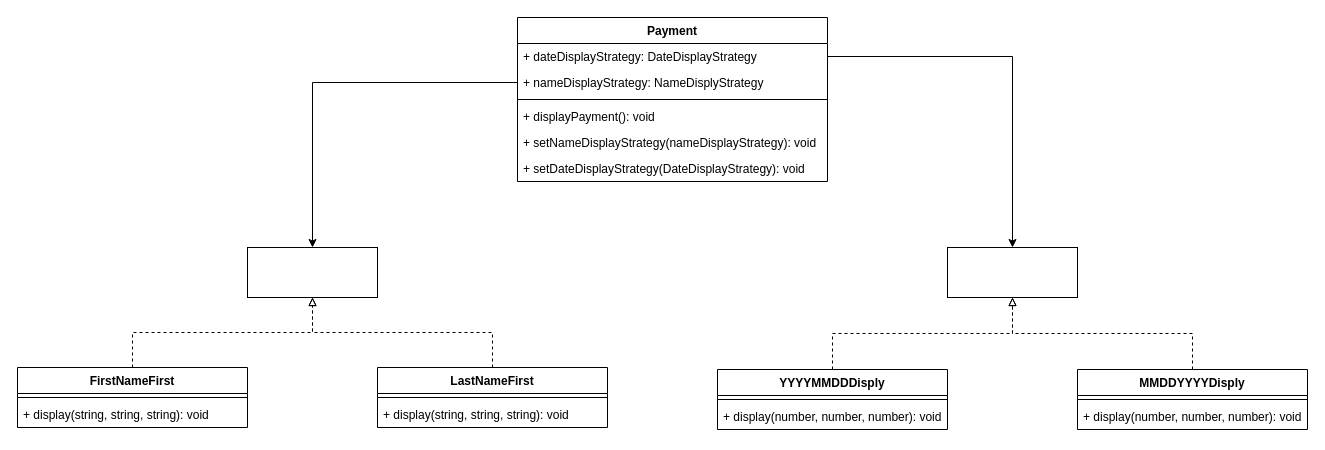
The diagram is 1325 pixels wide and 450 high, and some of its shapes have lost their labels. The box of each missing label's shape, as (x1, y1, x2, y2) in pixels:
«interface» DateDisplayStrategy: (946, 246, 1078, 298)
«interface» NameDisplyStrategy: (246, 246, 378, 298)
